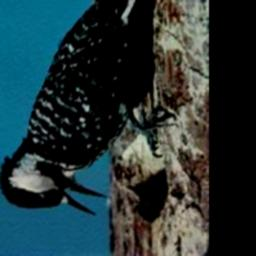Woodpecker: (0, 0, 178, 222)
